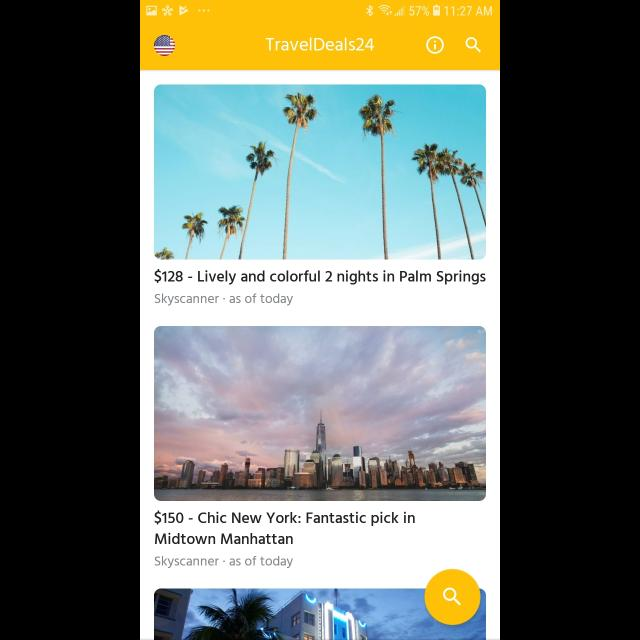icon: (424, 568, 481, 626), (426, 37, 444, 55), (465, 37, 481, 53)
image: (154, 326, 486, 502), (154, 84, 486, 260), (154, 588, 486, 640), (154, 35, 176, 57)
text: (155, 510, 415, 544), (154, 269, 486, 285), (154, 556, 294, 568), (154, 294, 294, 306), (266, 37, 374, 51)
uppertaskbar: (140, 1, 500, 17)
